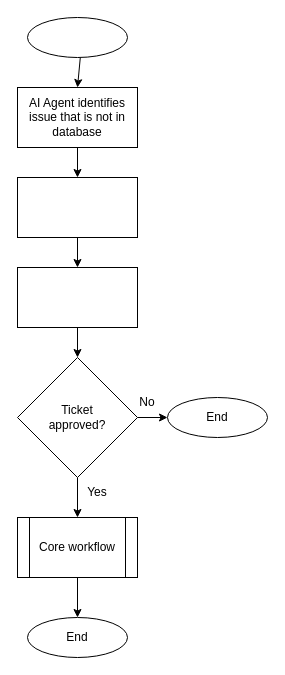
Some shapes in this 285 by 675 pixel diagram are drawn without their labels. The shapes that lost their labels are listed below. From the top down, each one's centre as x and y in pixels, then its label:
point 77,37: Start
point 77,207: AI creates ticket with description and tag
point 77,297: Humans are notified of the ticket creation request
